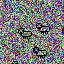sheep: (18, 28, 32, 39), (36, 23, 50, 34), (33, 47, 47, 58)
